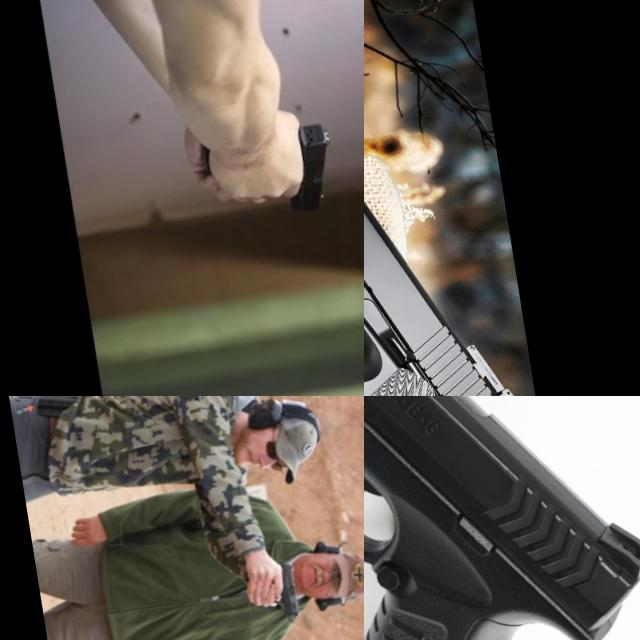handgun: (364, 7, 579, 396), (364, 396, 640, 640), (274, 116, 343, 220), (268, 560, 304, 622), (160, 396, 208, 431)
